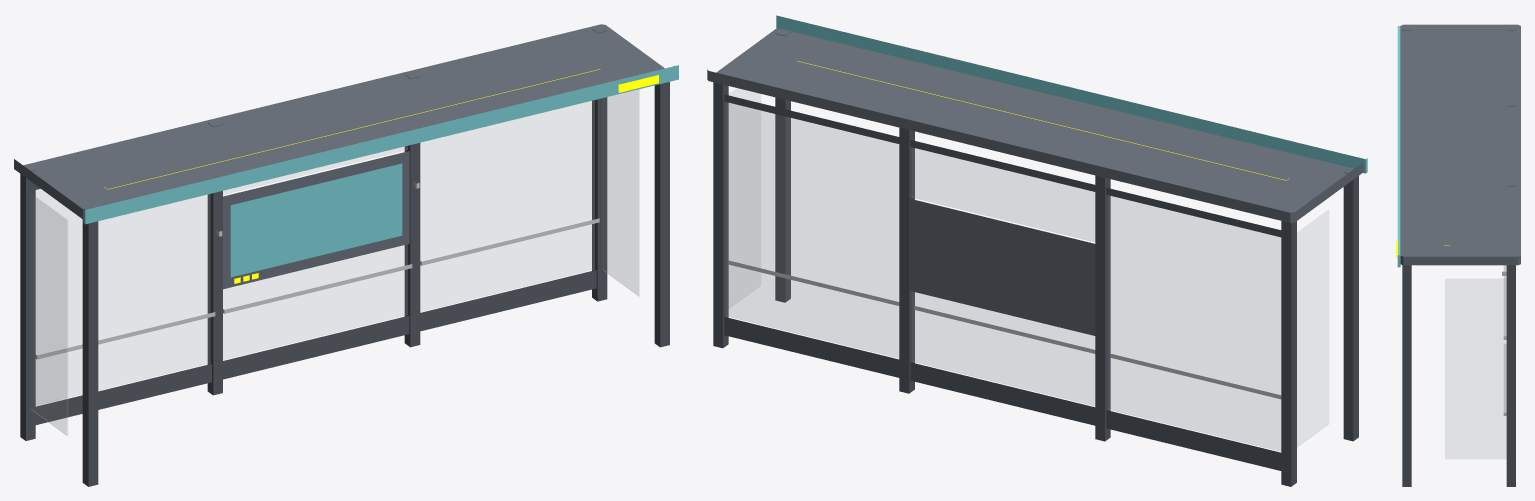
The model's file is ext_tram_shelter_01.glb.
3 views of the same model, side by side, from view 1: azimuth 30°, elevation 25°; view 2: azimuth 150°, elevation 25°; view 3: azimuth 270°, elevation 25° (orthographic). The views are drawn at different scales.
Visible parts, largest first — view 1: Rear_Glass, Roof, Posts, Side_Glass, Timetable_Screen, Kick_Rails, Fascia, Timetable_Frame, Lean_Rail; view 2: Rear_Glass, Roof, Posts, Timetable_Frame, Side_Glass, Kick_Rails, Fascia, Head_Rail, Lean_Rail; view 3: Roof, Side_Glass, Posts, Fascia, Lean_Rail.
Boxes of the visible parts, x1,y1,x2,y2 form: Rear_Glass: [36, 100, 594, 405]; Roof: [14, 24, 674, 219]; Posts: [20, 29, 669, 486]; Side_Glass: [30, 89, 639, 435]; Timetable_Screen: [230, 163, 402, 277]; Kick_Rails: [35, 270, 596, 424]; Fascia: [83, 65, 678, 224]; Timetable_Frame: [223, 151, 409, 289]; Lean_Rail: [35, 218, 599, 359]; Rear_Glass: [726, 102, 1280, 451]; Roof: [707, 28, 1363, 222]; Posts: [713, 32, 1358, 486]; Timetable_Frame: [909, 198, 1095, 335]; Side_Glass: [729, 88, 1328, 447]; Kick_Rails: [724, 317, 1281, 470]; Fascia: [776, 15, 1367, 173]; Head_Rail: [724, 94, 1281, 237]; Lean_Rail: [728, 260, 1281, 399]; Roof: [1400, 24, 1520, 265]; Side_Glass: [1445, 279, 1506, 458]; Posts: [1402, 30, 1515, 486]; Fascia: [1397, 26, 1400, 267]; Lean_Rail: [1503, 265, 1506, 415].
Size of the model in its own units: 6.02 by 2.72 by 1.32.
